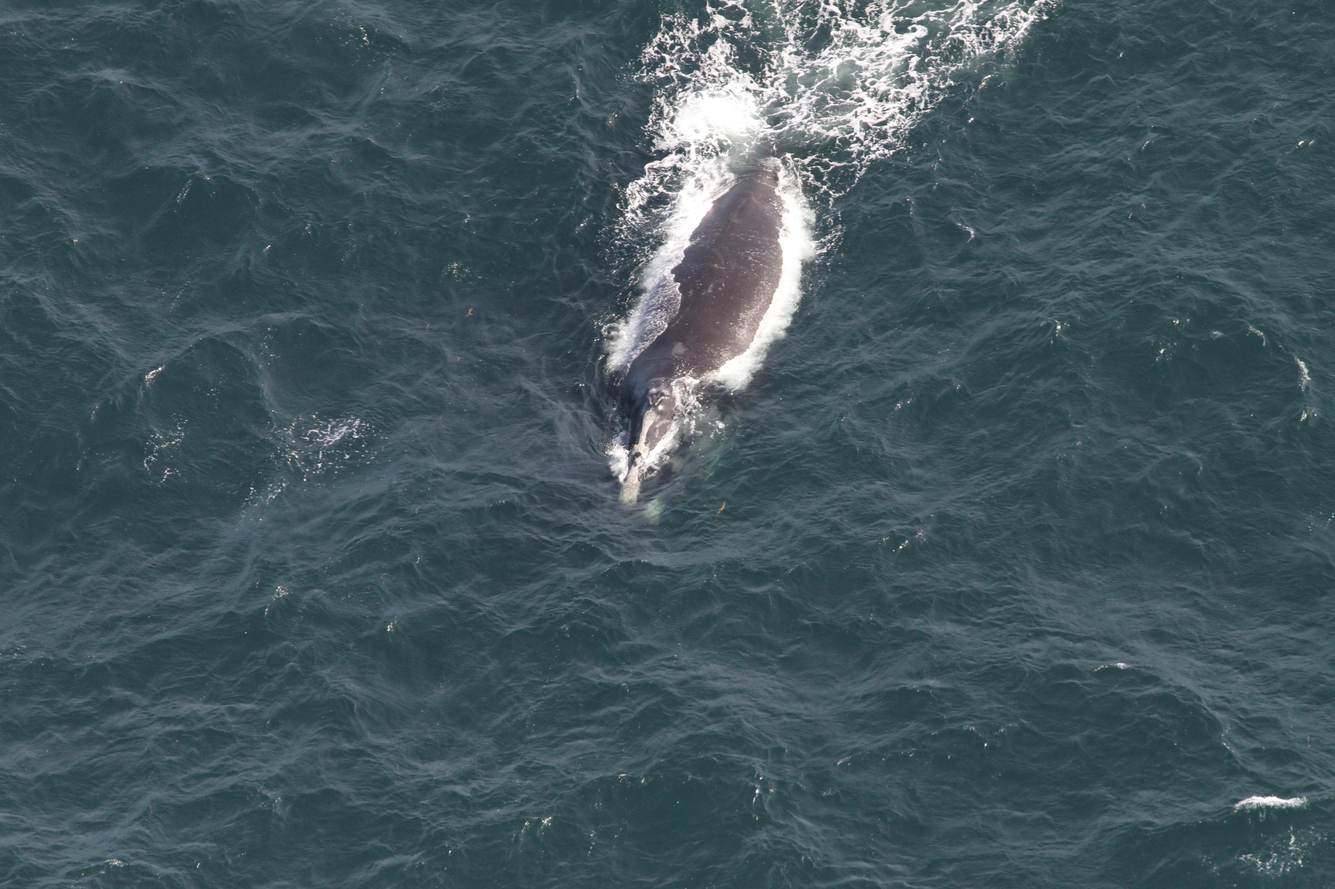whale: (581, 92, 842, 541)
